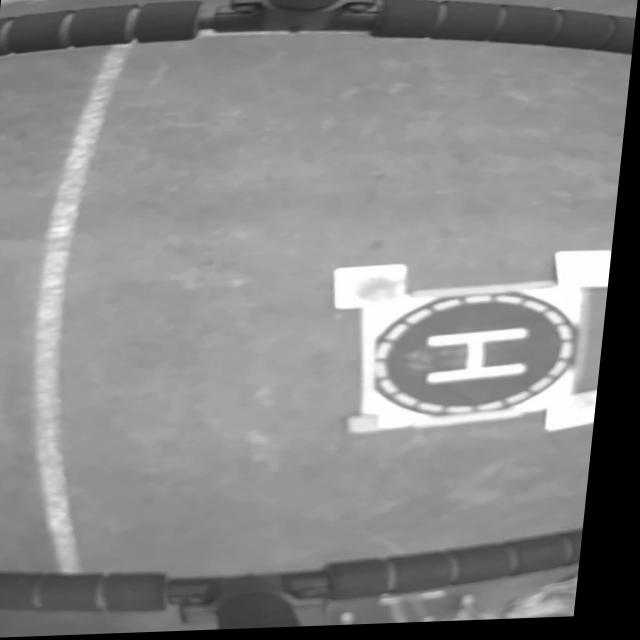Helipad: (430, 332, 538, 388)
